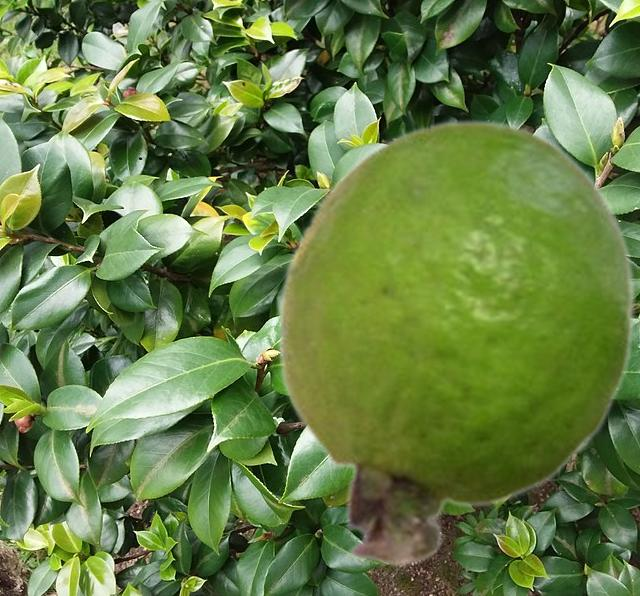guava: (277, 117, 636, 567)
